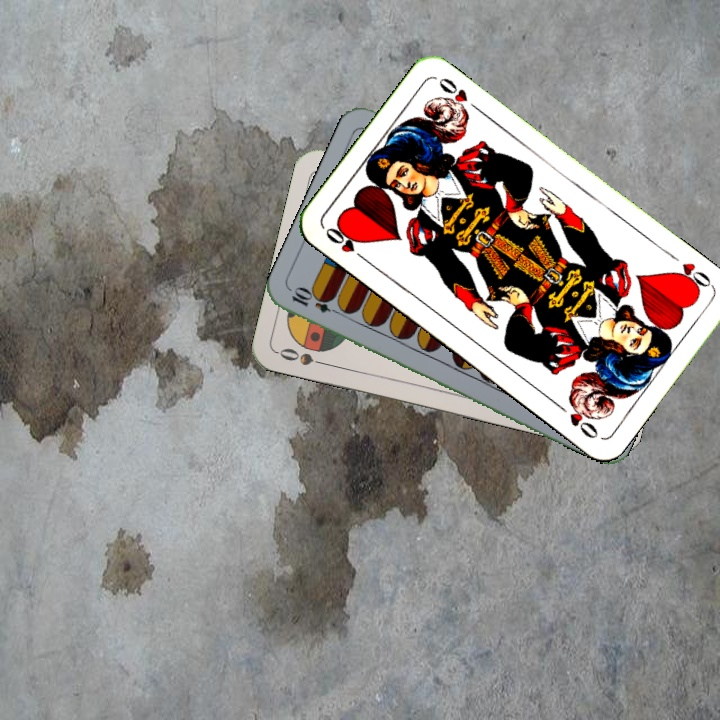E10: (287, 285, 345, 318)
HO: (321, 220, 371, 265), (669, 258, 716, 295)
SO: (275, 344, 333, 369)
